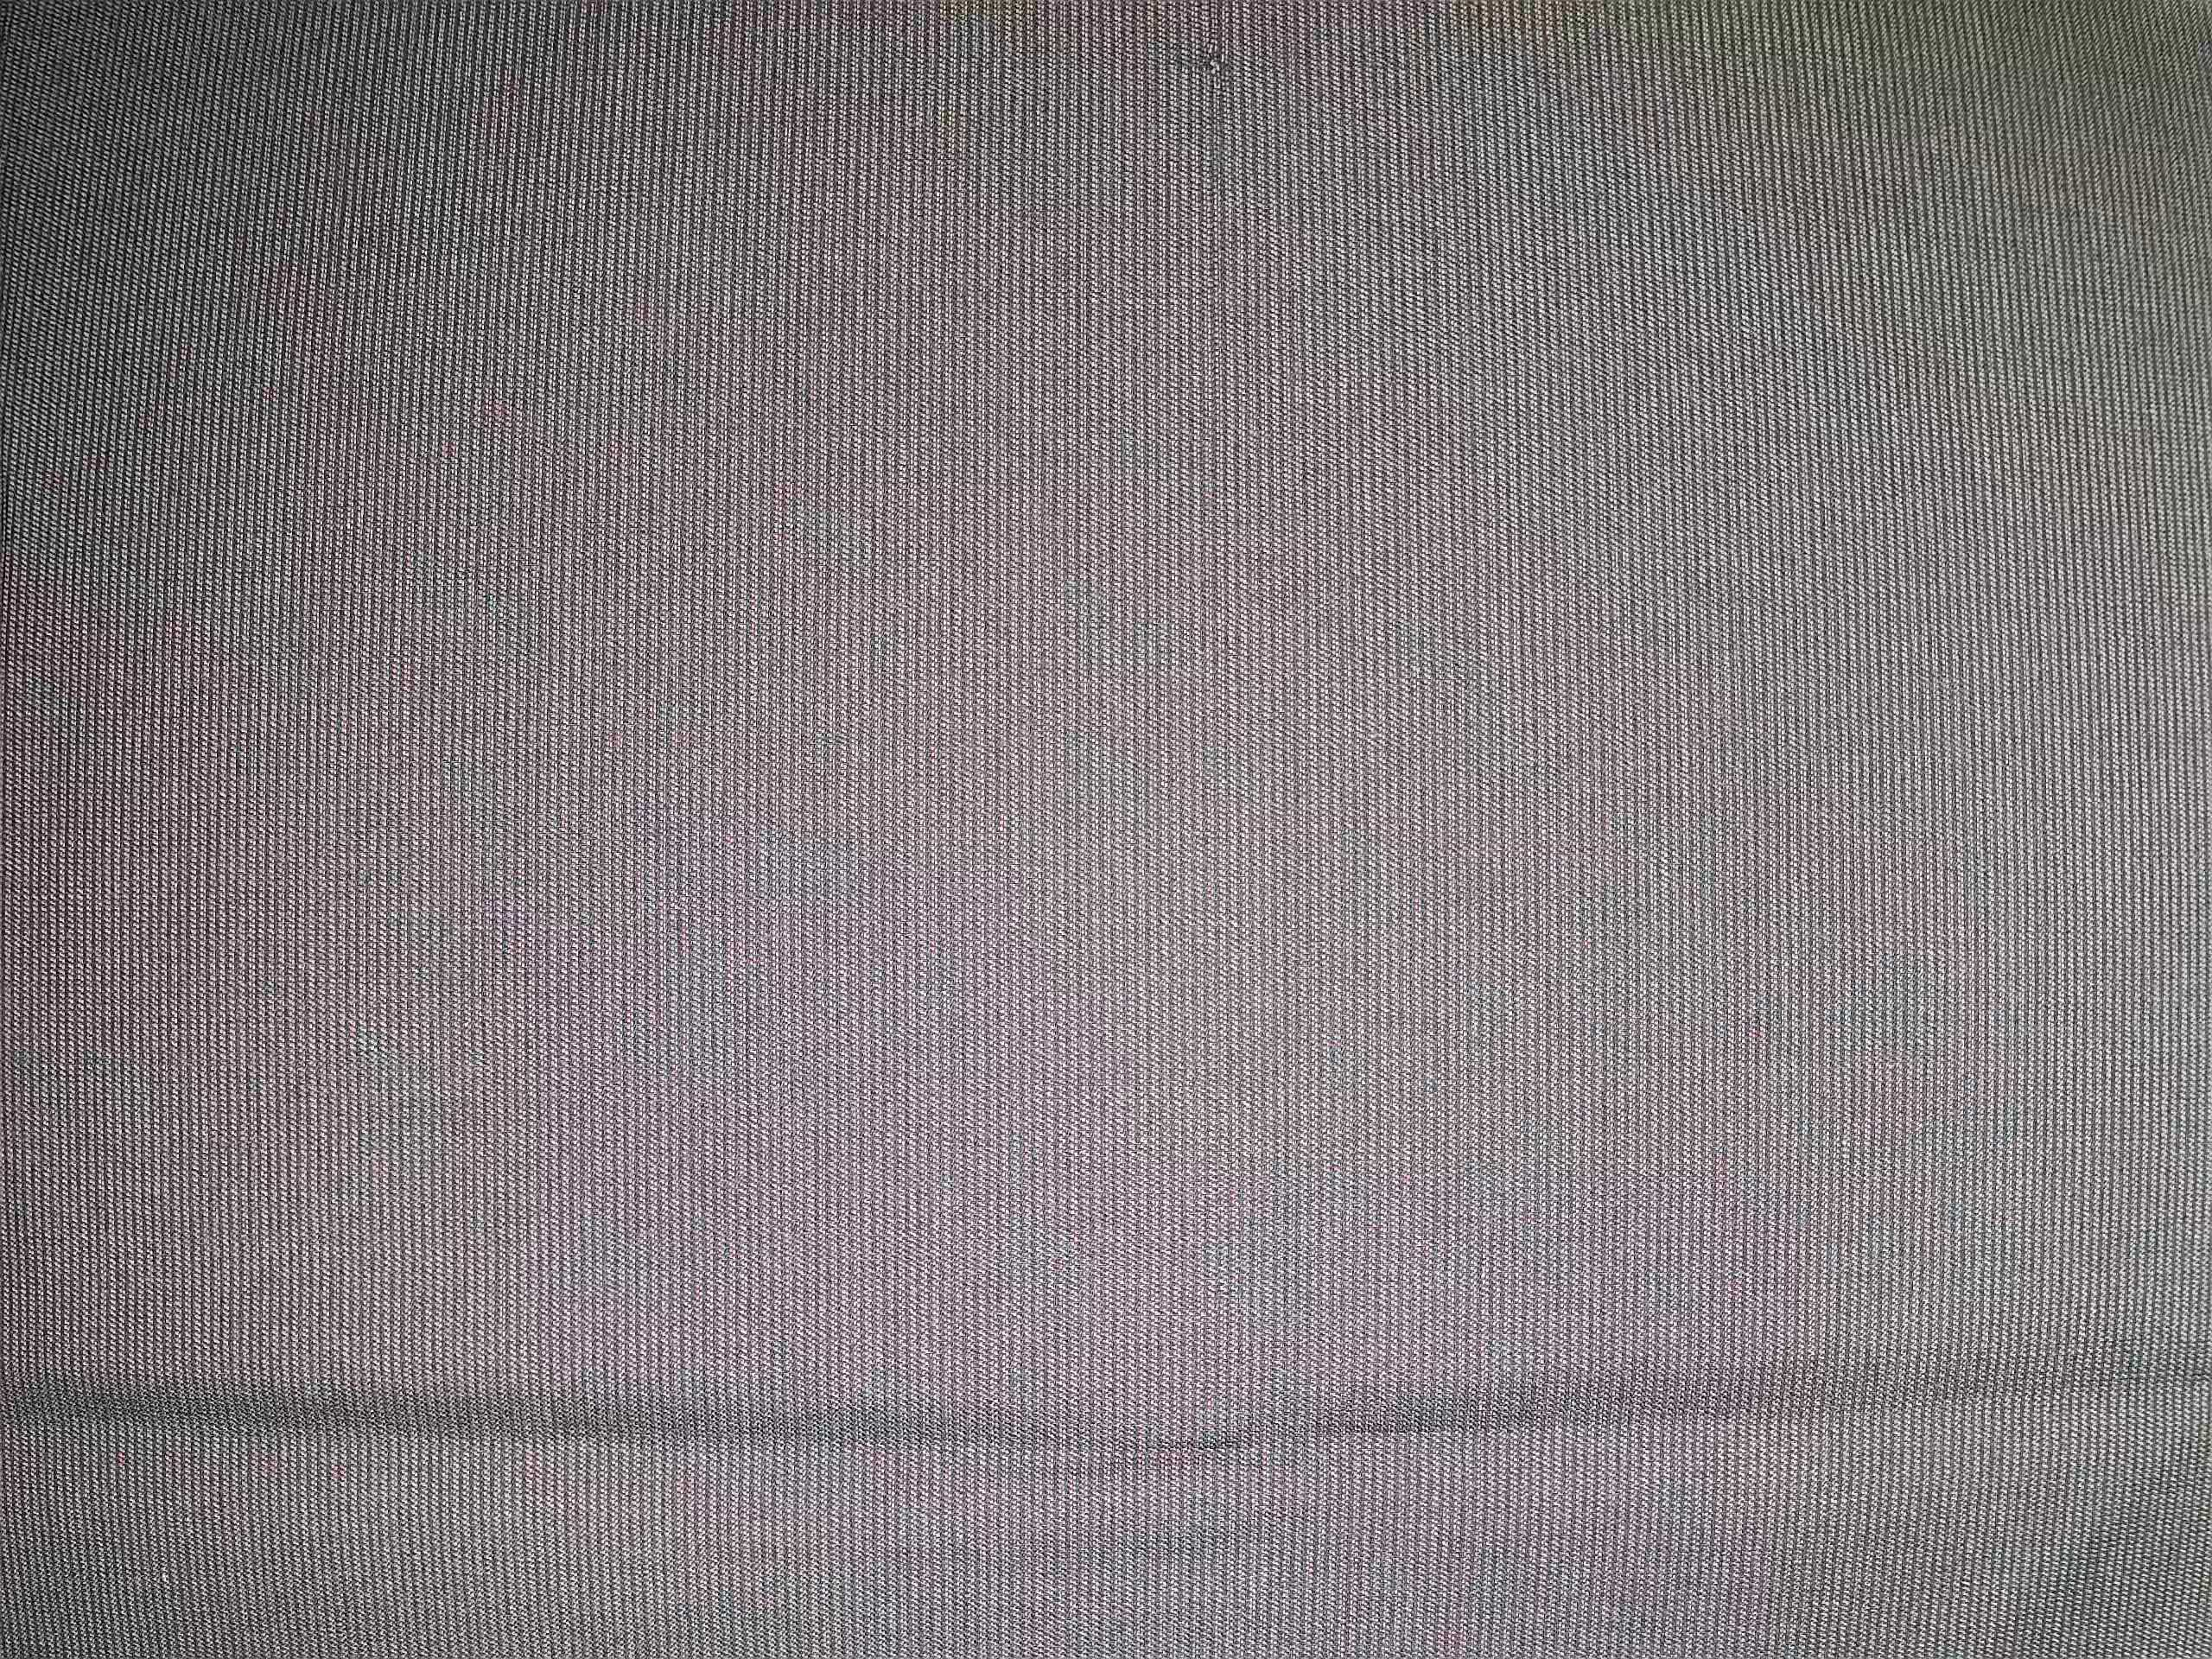hanging-warp: (1165, 0, 1247, 192)
